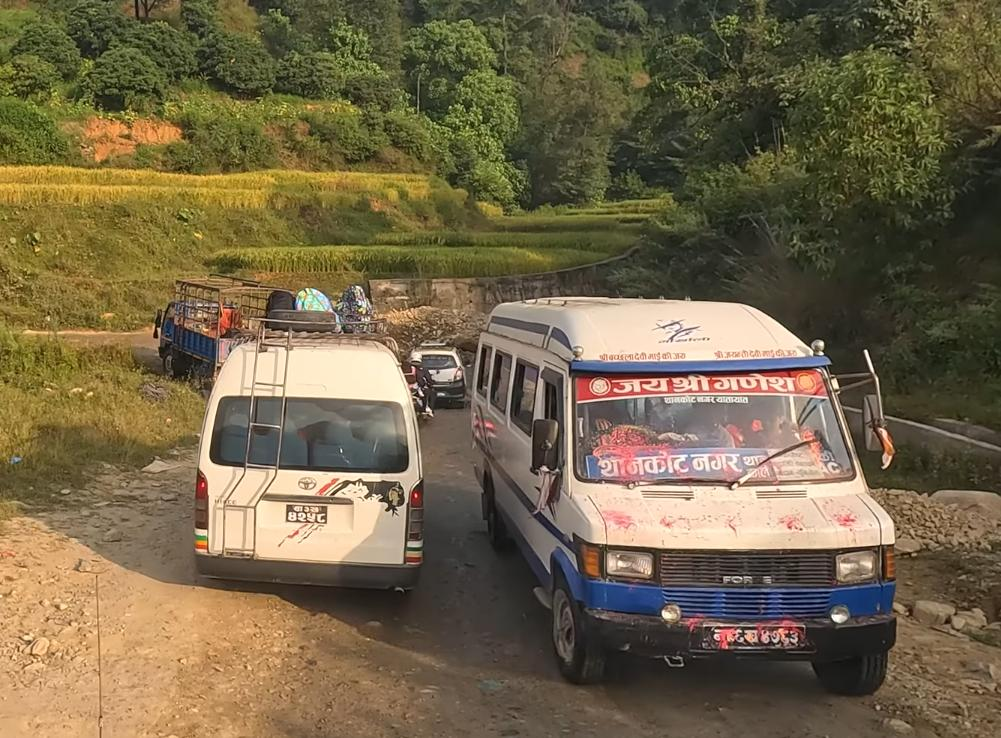micro_bus: (469, 292, 904, 698), (192, 311, 432, 612)
mini_truck: (154, 273, 300, 380)
taxi: (407, 339, 470, 411)
